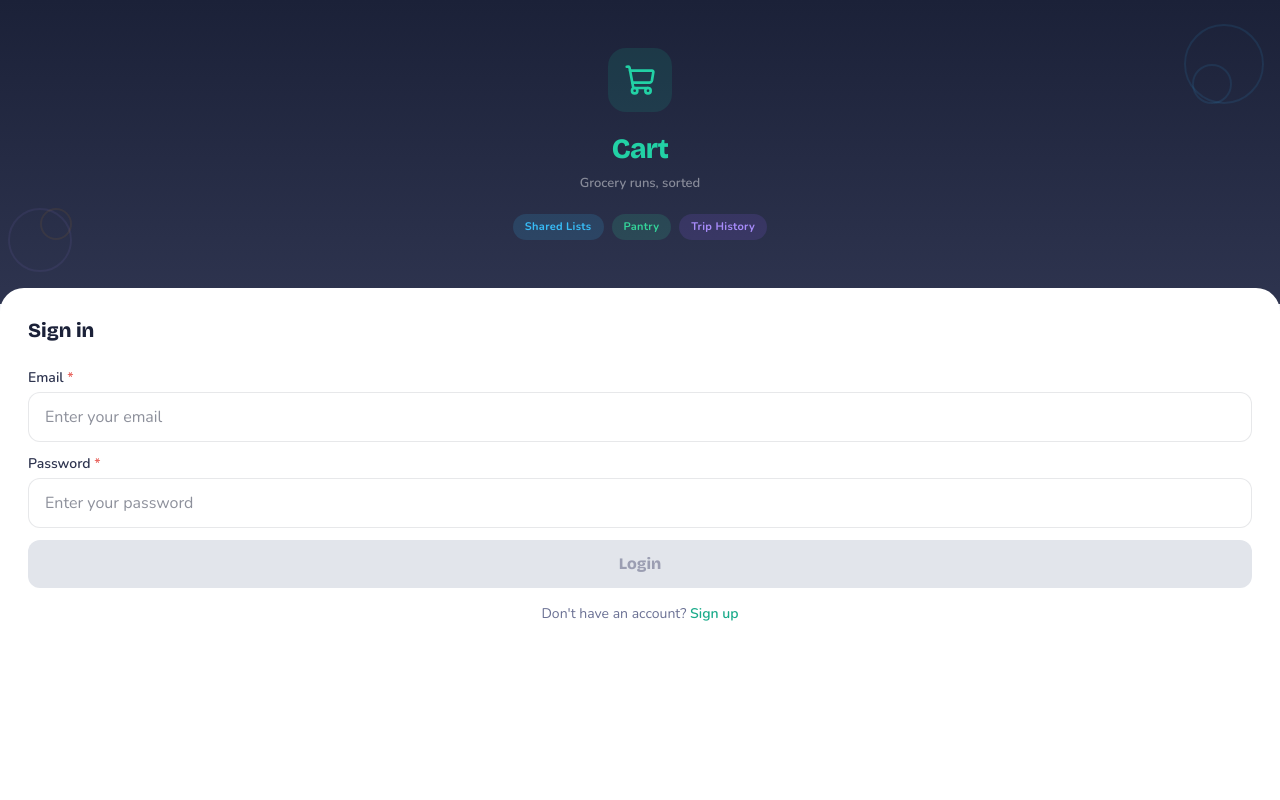
Test: LoginPage › shows inline error on email field when login fails
The image size is (1280, 800).
Type "wrong@example.com" into the field with placeholder "Enter your email".
click(640, 417); type("wrong@example.com")  # box [28, 392, 1252, 442]
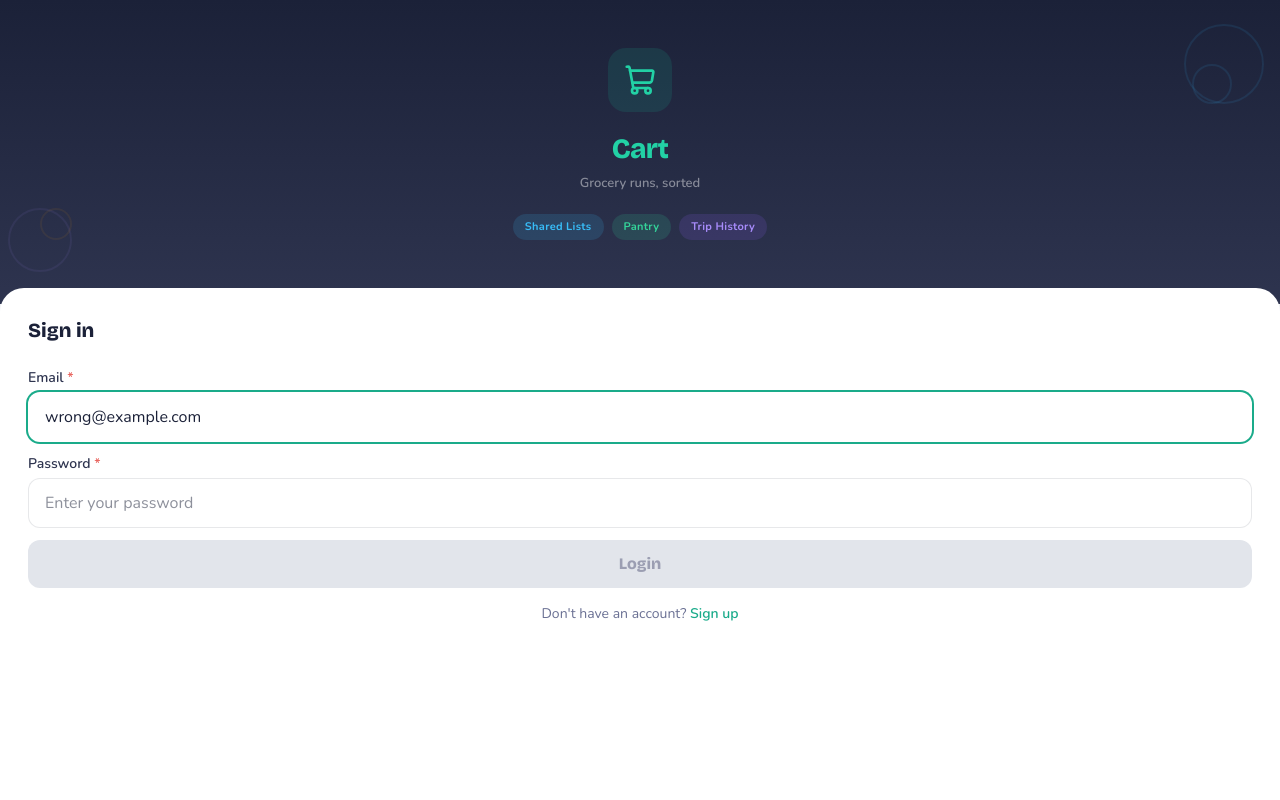
Type "wrongpassword" into the password field with placeholder "Enter your password".
click(640, 503); type("wrongpassword")  # box [28, 478, 1252, 528]
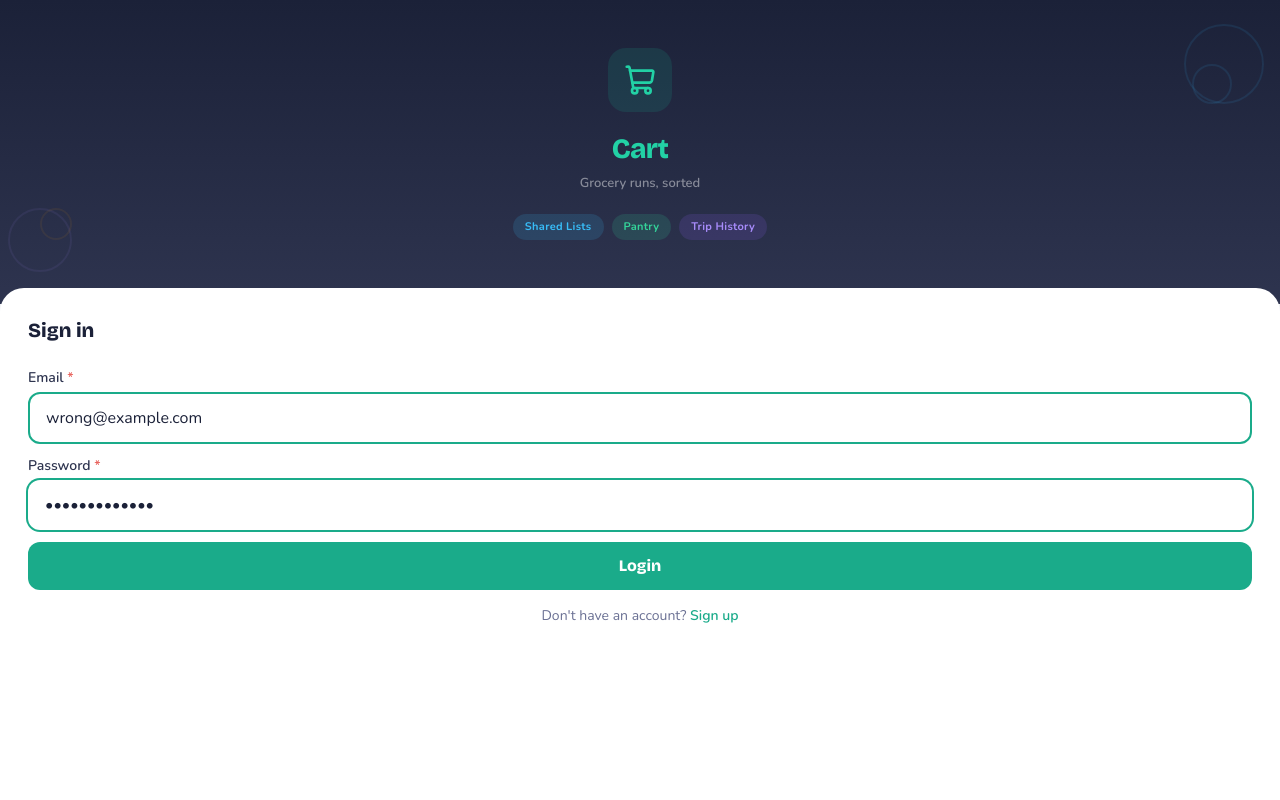
Click the button "Login".
click(640, 566)  # box [28, 542, 1252, 590]
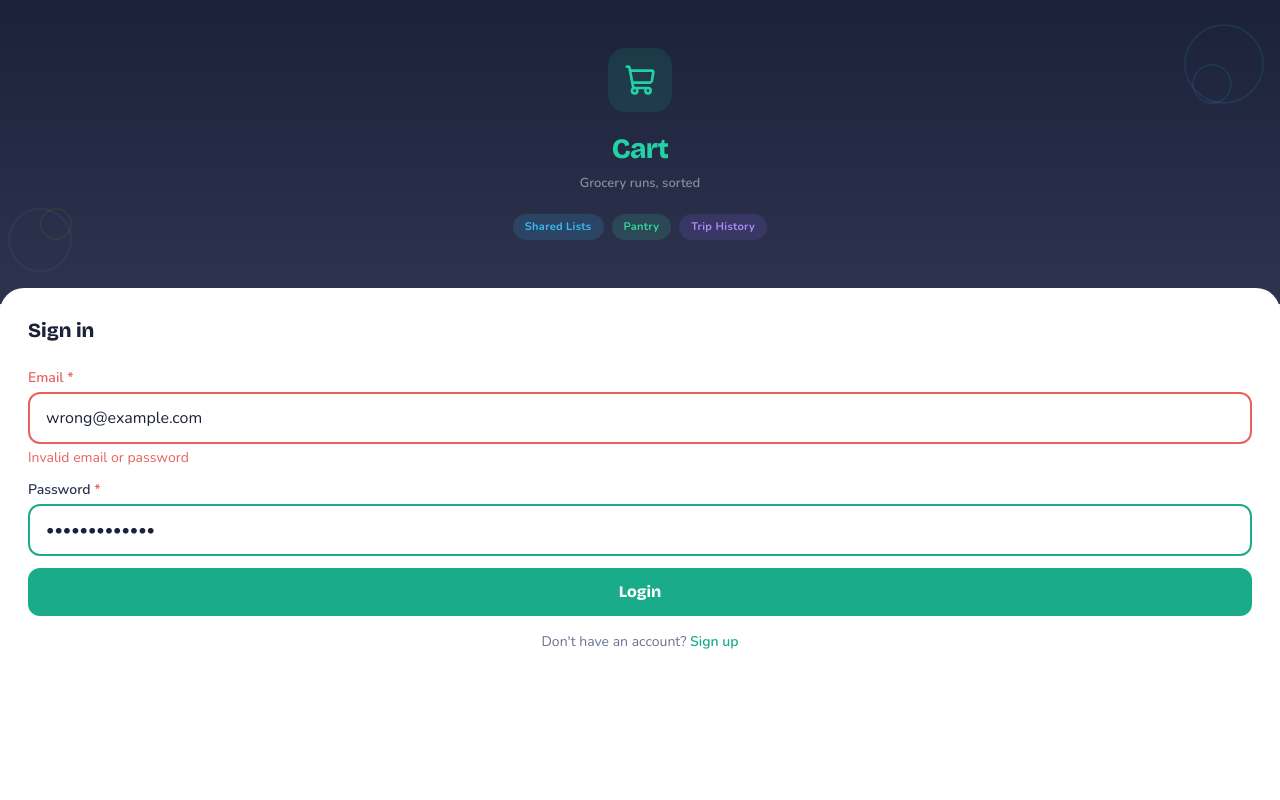
Result: the text "Invalid email or password" is shown at [28, 448, 189, 467]
